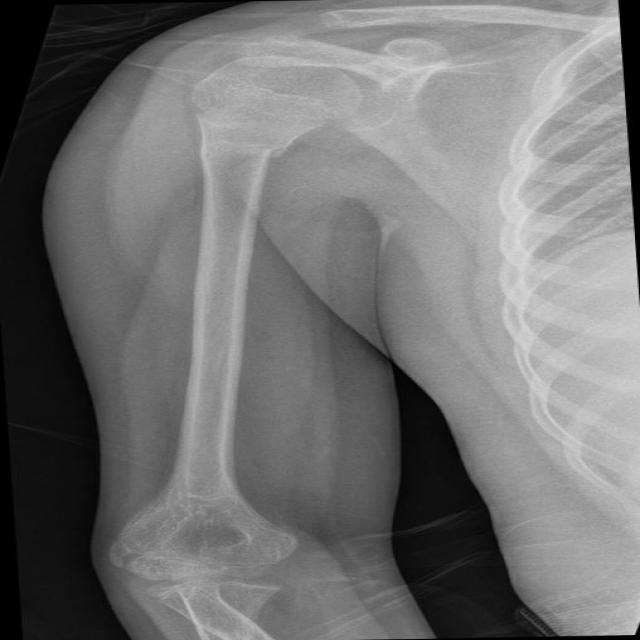Oblique Displaced: (181, 138, 290, 236)
